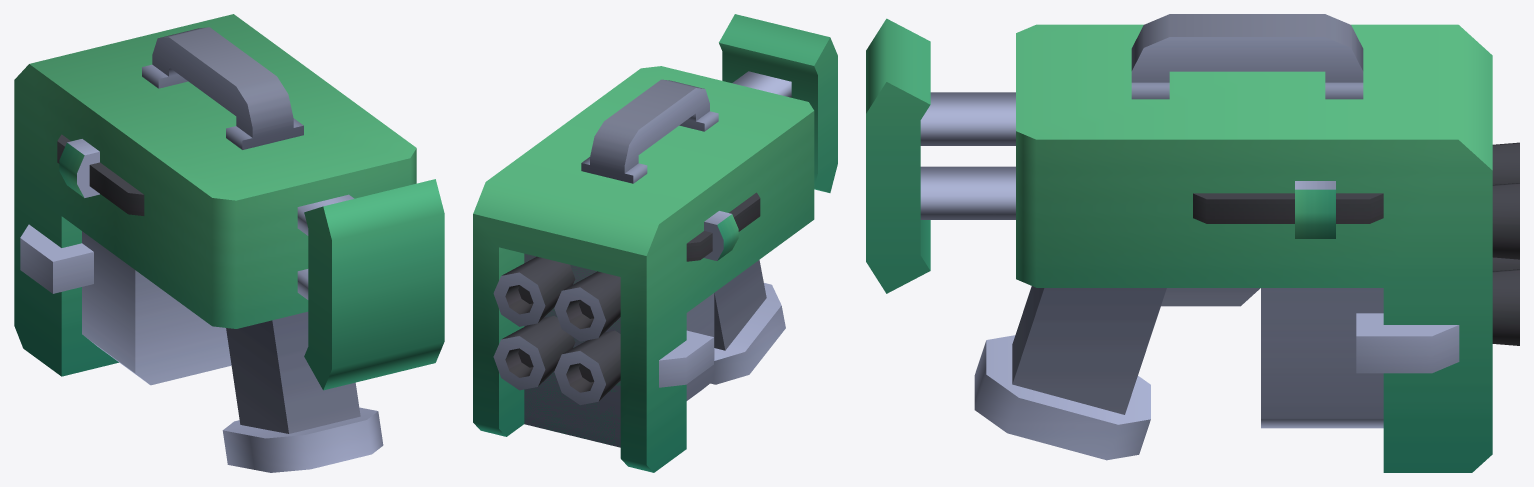
The model's file is blaster-o.glb.
The picture shows the model from 3 angles, left to right: view 1: azimuth 30°, elevation 25°; view 2: azimuth 150°, elevation 25°; view 3: azimuth 270°, elevation 25°; orthographic projection. The views are drawn at different scales.
Parts seen in each view (by area): view 1: blaster-o; view 2: blaster-o; view 3: blaster-o.
Part boxes in pixels (x1=…): blaster-o: x1=14, y1=14, x2=444, y2=472; blaster-o: x1=473, y1=14, x2=837, y2=472; blaster-o: x1=866, y1=14, x2=1519, y2=472.
Size of the model in its own units: 0.245 by 0.3338 by 0.48.
Materials: 1 (1 with a texture image).
